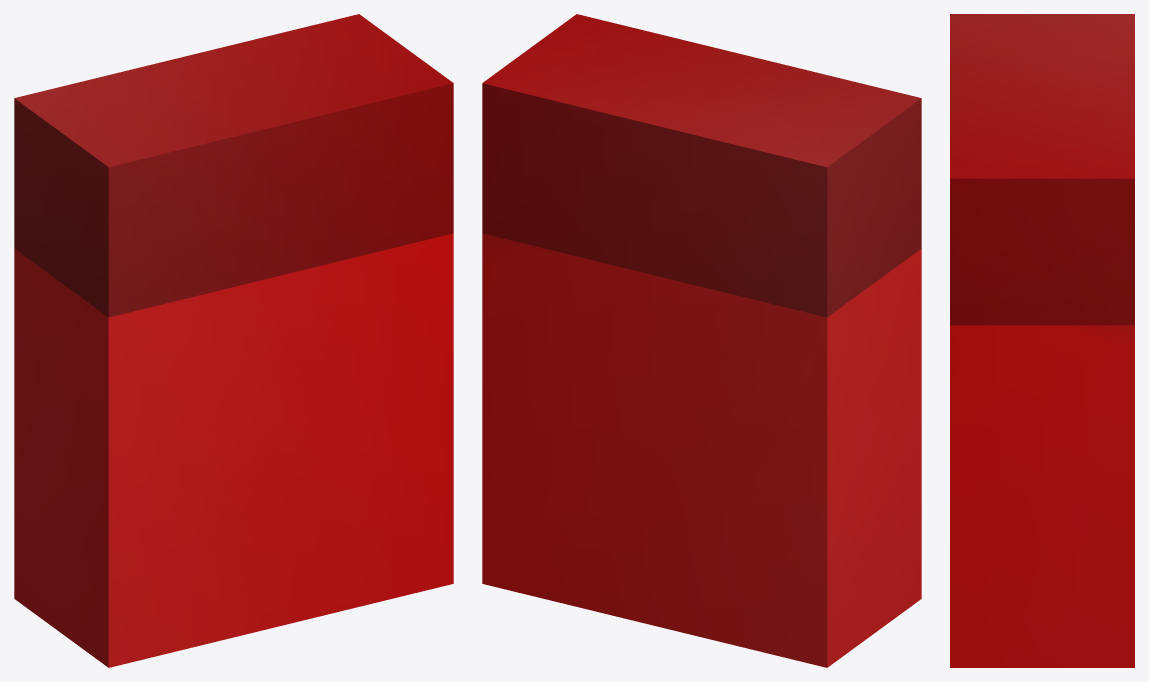
File: Ürün4.fbx
The picture shows the model from 3 angles, left to right: view 1: azimuth 30°, elevation 25°; view 2: azimuth 150°, elevation 25°; view 3: azimuth 270°, elevation 25°; orthographic projection. The views are drawn at different scales.
Parts seen in each view (by area): view 1: pCube69; view 2: pCube69; view 3: pCube69.
Boxes of the visible parts, x1,y1,x2,y2 form: pCube69: (14,14,453,667); pCube69: (482,14,921,667); pCube69: (950,14,1134,667).
Size of the model in its own units: 23.51 by 32.6 by 11.16.
